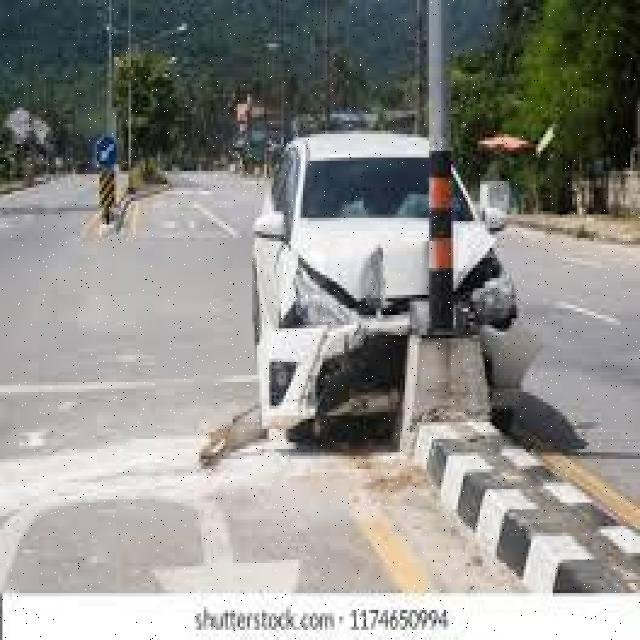moderate: (245, 127, 536, 429)
